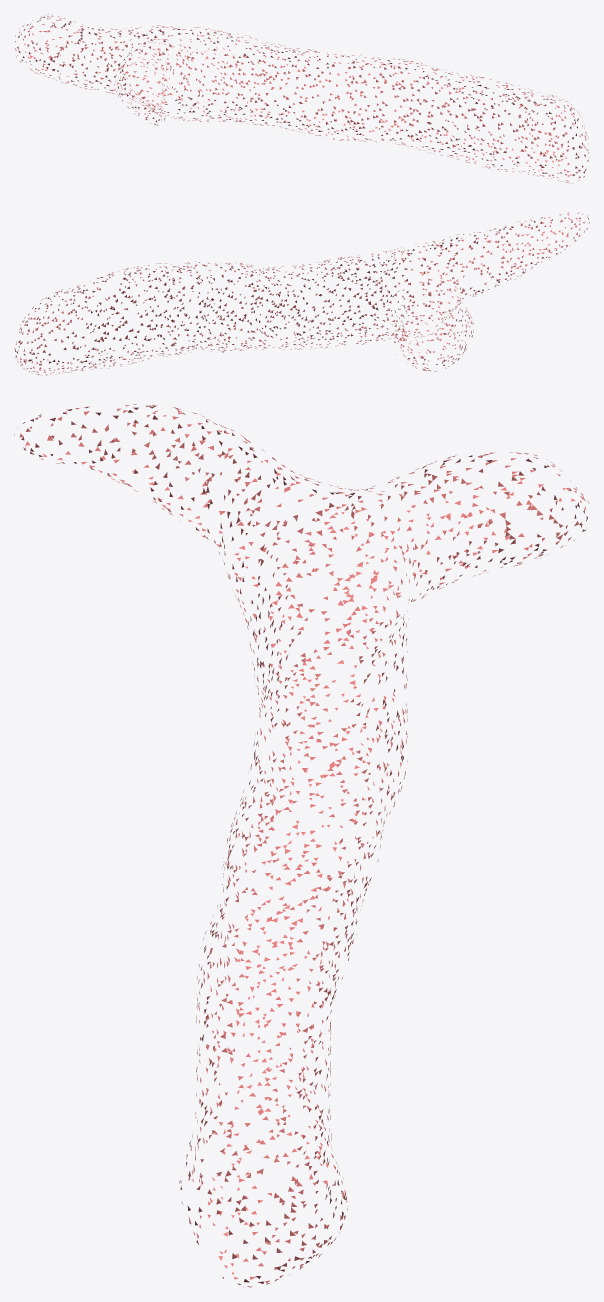
File: morph_000.glb
3 renders of one model, top to bottom at view 1: azimuth 30°, elevation 25°; view 2: azimuth 150°, elevation 25°; view 3: azimuth 270°, elevation 25°, orthographic. The views are drawn at different scales.
Size of the model in its own units: 124 by 57.99 by 66.3.
